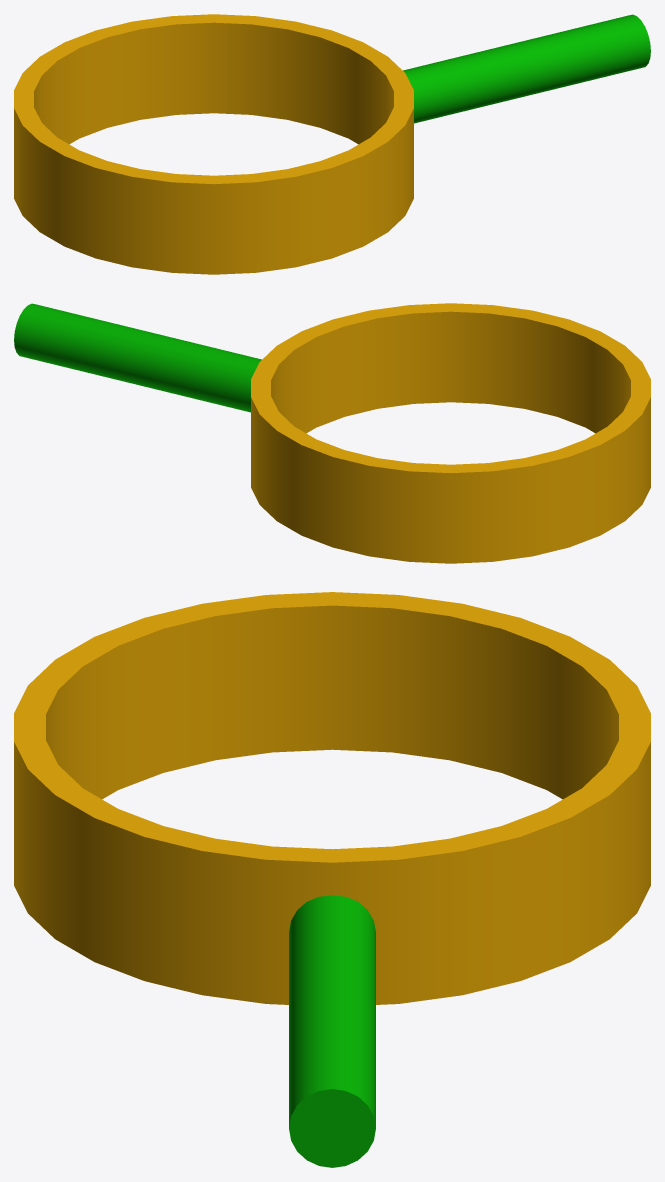
The model's file is Magnifying Glass.fbx.
3 views of the same model, one above another, from view 1: azimuth 30°, elevation 25°; view 2: azimuth 150°, elevation 25°; view 3: azimuth 270°, elevation 25° (orthographic). The views are drawn at different scales.
Visible parts, largest first — view 1: Magnifying_glass, pCylinder1; view 2: Magnifying_glass, pCylinder1; view 3: Magnifying_glass, pCylinder1.
Boxes of the visible parts, <box> form: Magnifying_glass: <box>14,14,413,274</box>; pCylinder1: <box>403,14,650,123</box>; Magnifying_glass: <box>251,303,650,563</box>; pCylinder1: <box>14,303,261,412</box>; Magnifying_glass: <box>14,592,650,1004</box>; pCylinder1: <box>289,895,375,1167</box>.
Size of the model in its own units: 3.5 by 0.5076 by 2.03.
